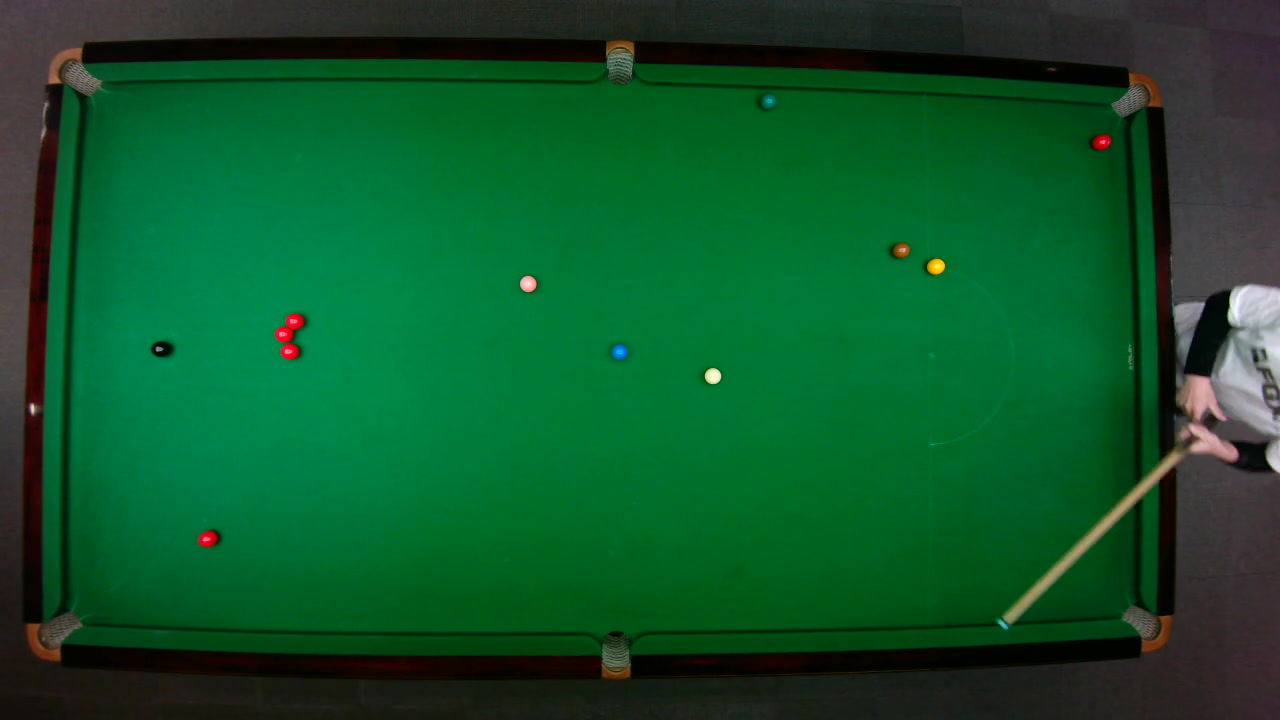bag: (24, 609, 84, 661), (45, 46, 102, 96), (1119, 603, 1172, 652), (1108, 71, 1161, 118), (600, 629, 629, 680), (605, 38, 633, 85)
black: (149, 339, 172, 357)
blue: (609, 343, 628, 360)
brown: (890, 241, 911, 258)
cue: (994, 442, 1185, 632)
green: (759, 92, 776, 110)
pink: (518, 274, 537, 292)
red: (196, 528, 218, 547), (284, 311, 305, 330), (1090, 132, 1112, 150), (272, 324, 294, 342), (279, 342, 300, 360)
white: (702, 366, 722, 384)
yellow: (925, 256, 946, 275)
zone: (927, 265, 1013, 445)
